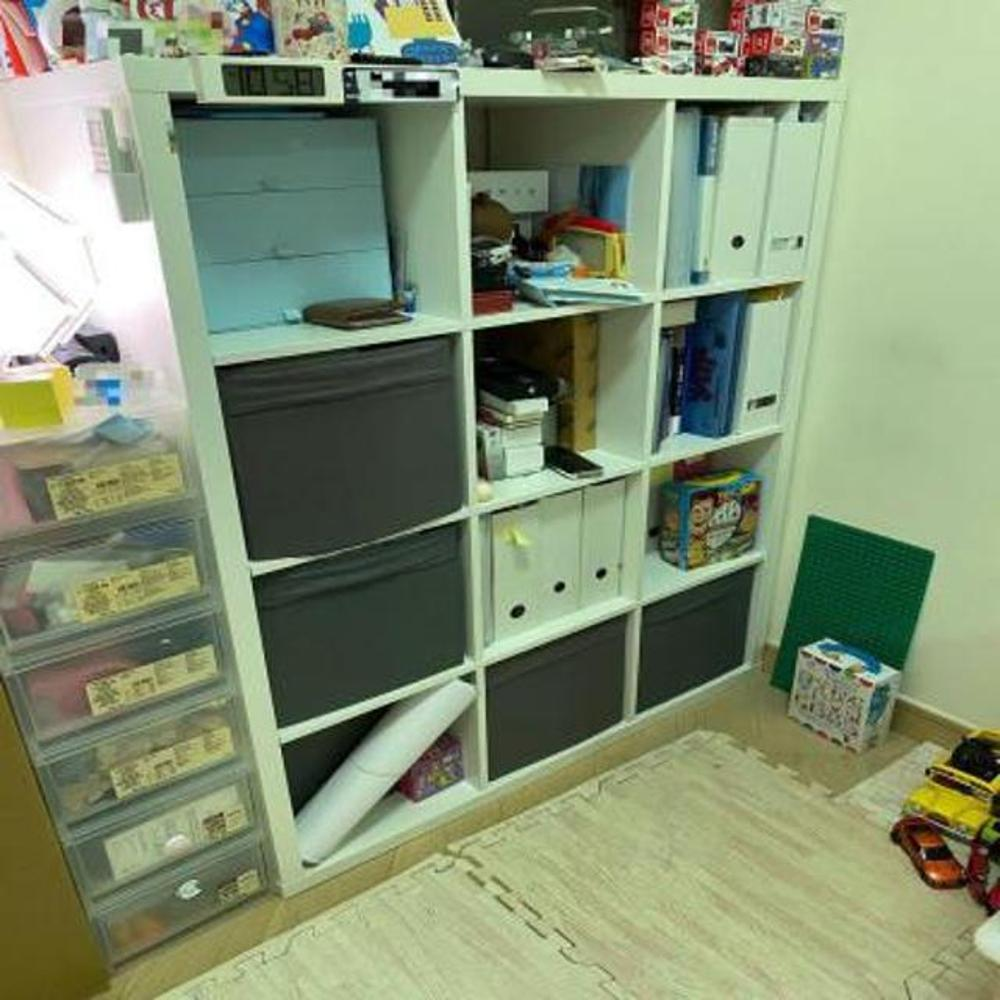lamp: (4, 52, 854, 907)
